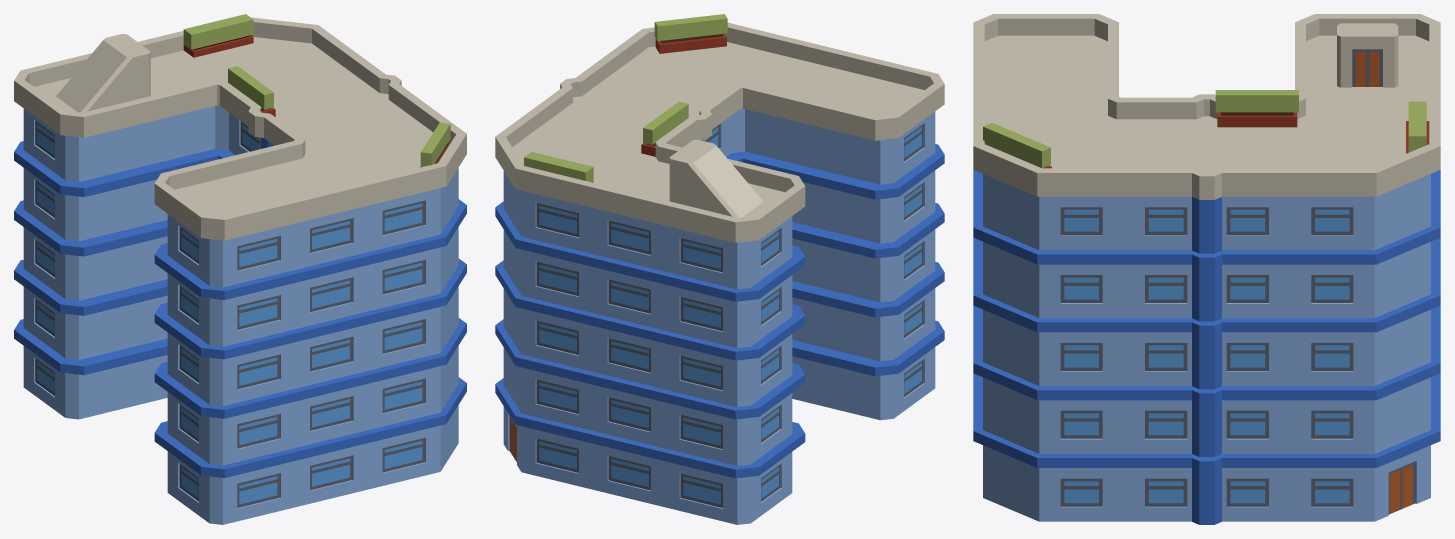
3 views of the same model, side by side, from view 1: azimuth 30°, elevation 25°; view 2: azimuth 150°, elevation 25°; view 3: azimuth 270°, elevation 25° (orthographic). The views are drawn at different scales.
Visible parts, largest first — view 1: predio 3.001; view 2: predio 3.001; view 3: predio 3.001.
Part boxes in pixels (bbox=[...]): predio 3.001: bbox=[14, 14, 466, 524]; predio 3.001: bbox=[495, 14, 944, 524]; predio 3.001: bbox=[973, 14, 1440, 524].
Size of the model in its own units: 10225 by 11368 by 12437.
